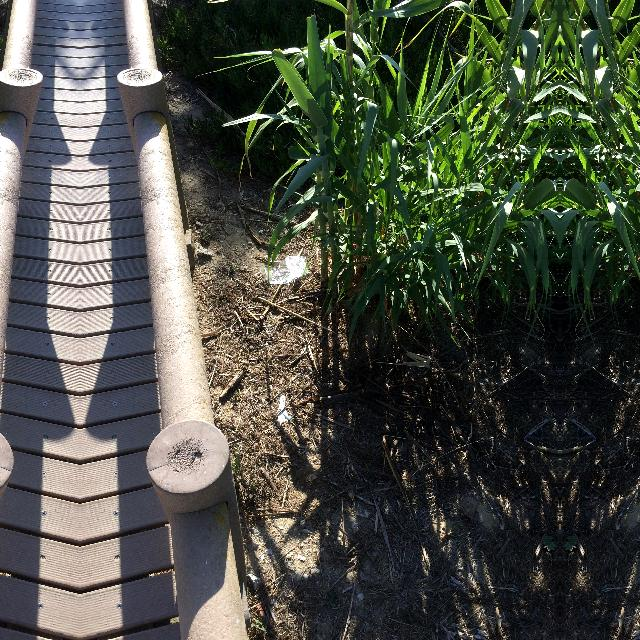Plastic: (258, 253, 316, 287), (275, 391, 293, 433)
